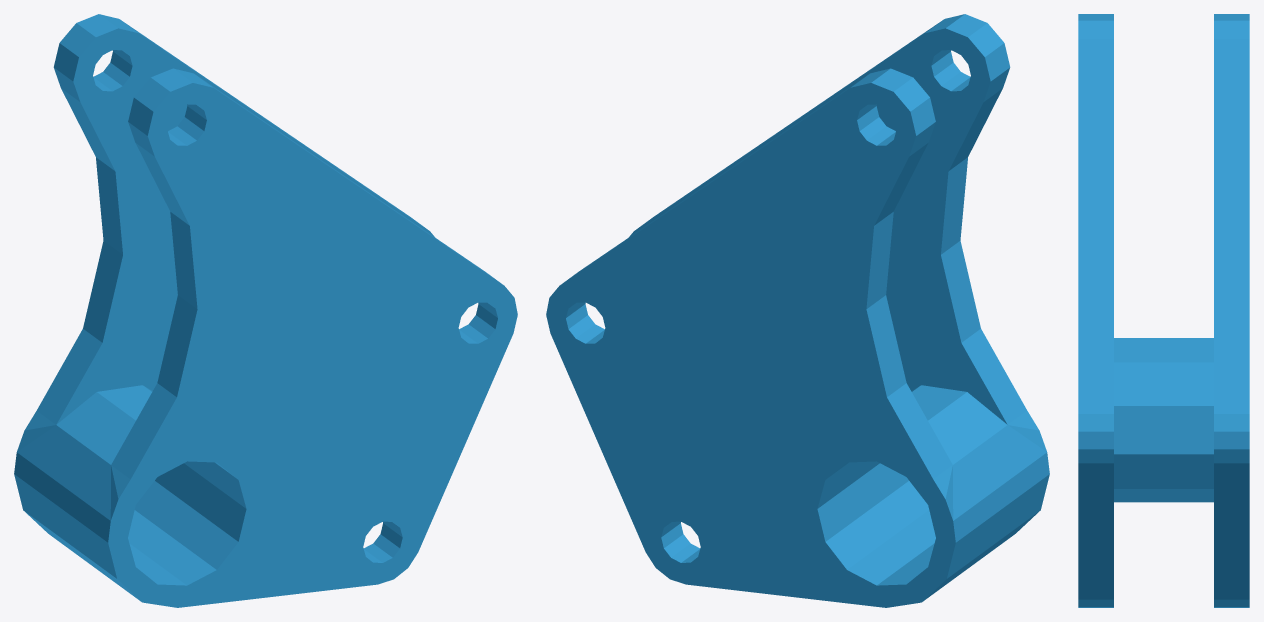
The model's file is frontrocker_initial.glb.
The picture shows the model from 3 angles, left to right: view 1: azimuth 30°, elevation 25°; view 2: azimuth 150°, elevation 25°; view 3: azimuth 270°, elevation 25°; orthographic projection. The views are drawn at different scales.
Visible parts, largest first — view 1: Part__Feature_mesh; view 2: Part__Feature_mesh; view 3: Part__Feature_mesh.
Boxes of the visible parts, x1,y1,x2,y2 form: Part__Feature_mesh: (14,14,517,607); Part__Feature_mesh: (546,14,1049,607); Part__Feature_mesh: (1078,14,1249,607).
Bounding box in the file's own units: 0.0658 × 0.0839 × 0.0262.
